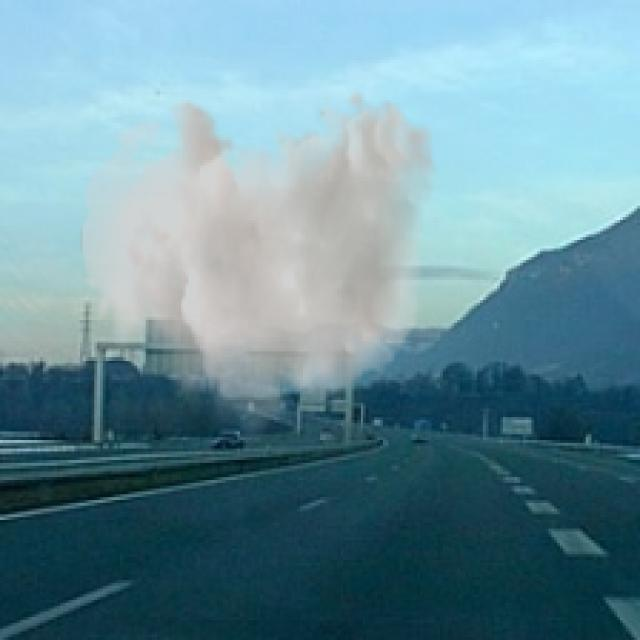Smoke: (80, 86, 437, 446)
